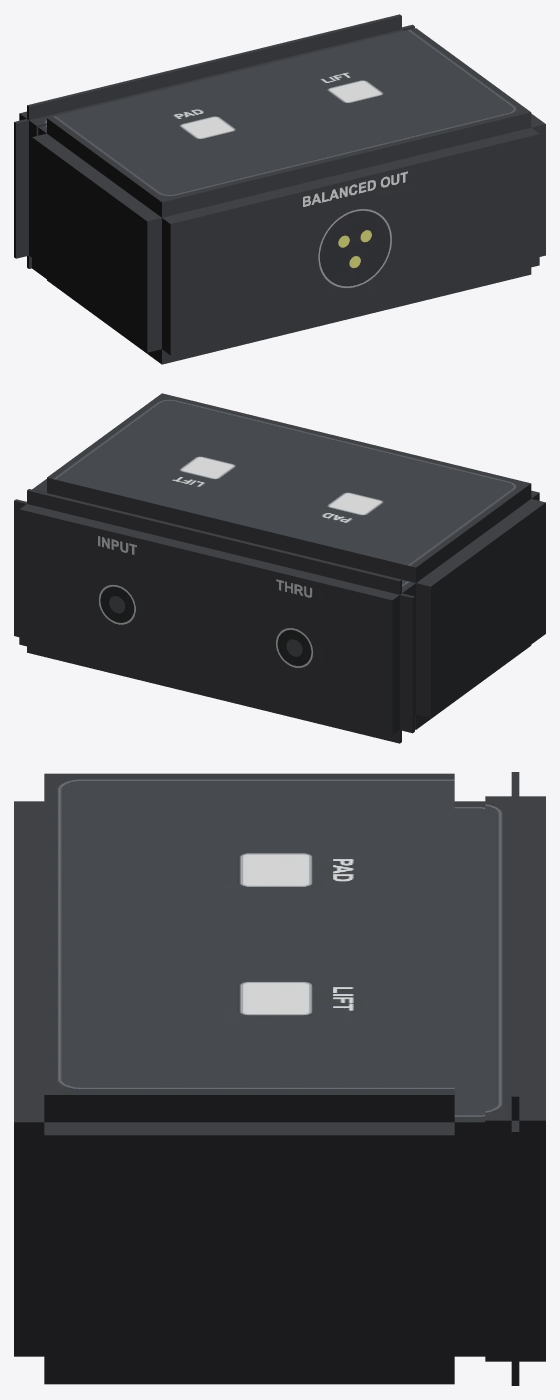
File: radial-prodi.glb
3 renders of one model, top to bottom at view 1: azimuth 30°, elevation 25°; view 2: azimuth 150°, elevation 25°; view 3: azimuth 270°, elevation 25°, orthographic. The views are drawn at different scales.
Visible parts, largest first — view 1: radial-prodi-body; view 2: radial-prodi-body; view 3: radial-prodi-body.
Boxes of the visible parts, <box> form: radial-prodi-body: <box>14,14,545,364</box>; radial-prodi-body: <box>14,393,545,743</box>; radial-prodi-body: <box>14,772,545,1385</box>.
Bounding box in the file's own units: 0.108 × 0.044 × 0.07.
1 material, 1 textured.
